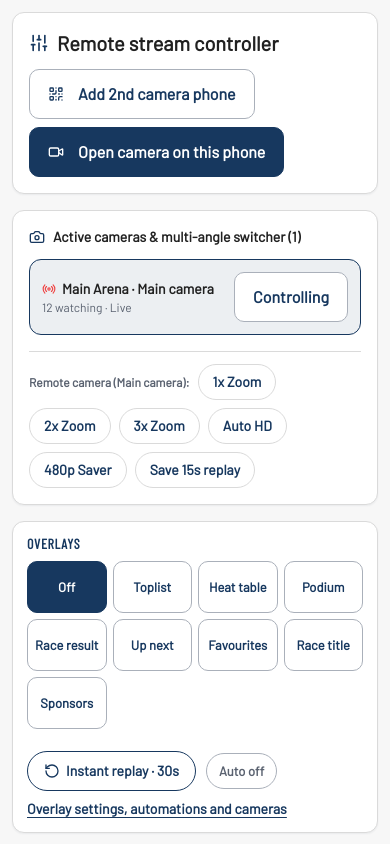
Test: does not claim or display an overlay saved after conflict
Click the radio button labelled "Toplist" at (152, 587), box [112, 561, 192, 613]
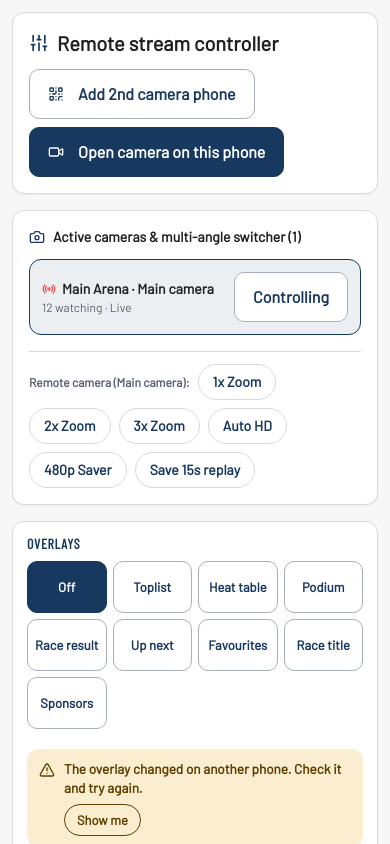
Now the message shows "The overlay changed on another phone. Check it and try again.", box [64, 760, 342, 796]
Now the button "Show me" is shown, box [64, 804, 141, 836]
